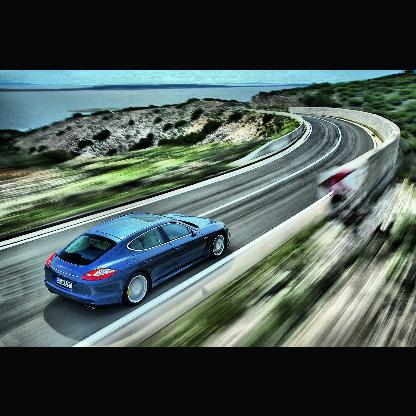Porsche Panamera Sedan 2012: (44, 211, 231, 304)
